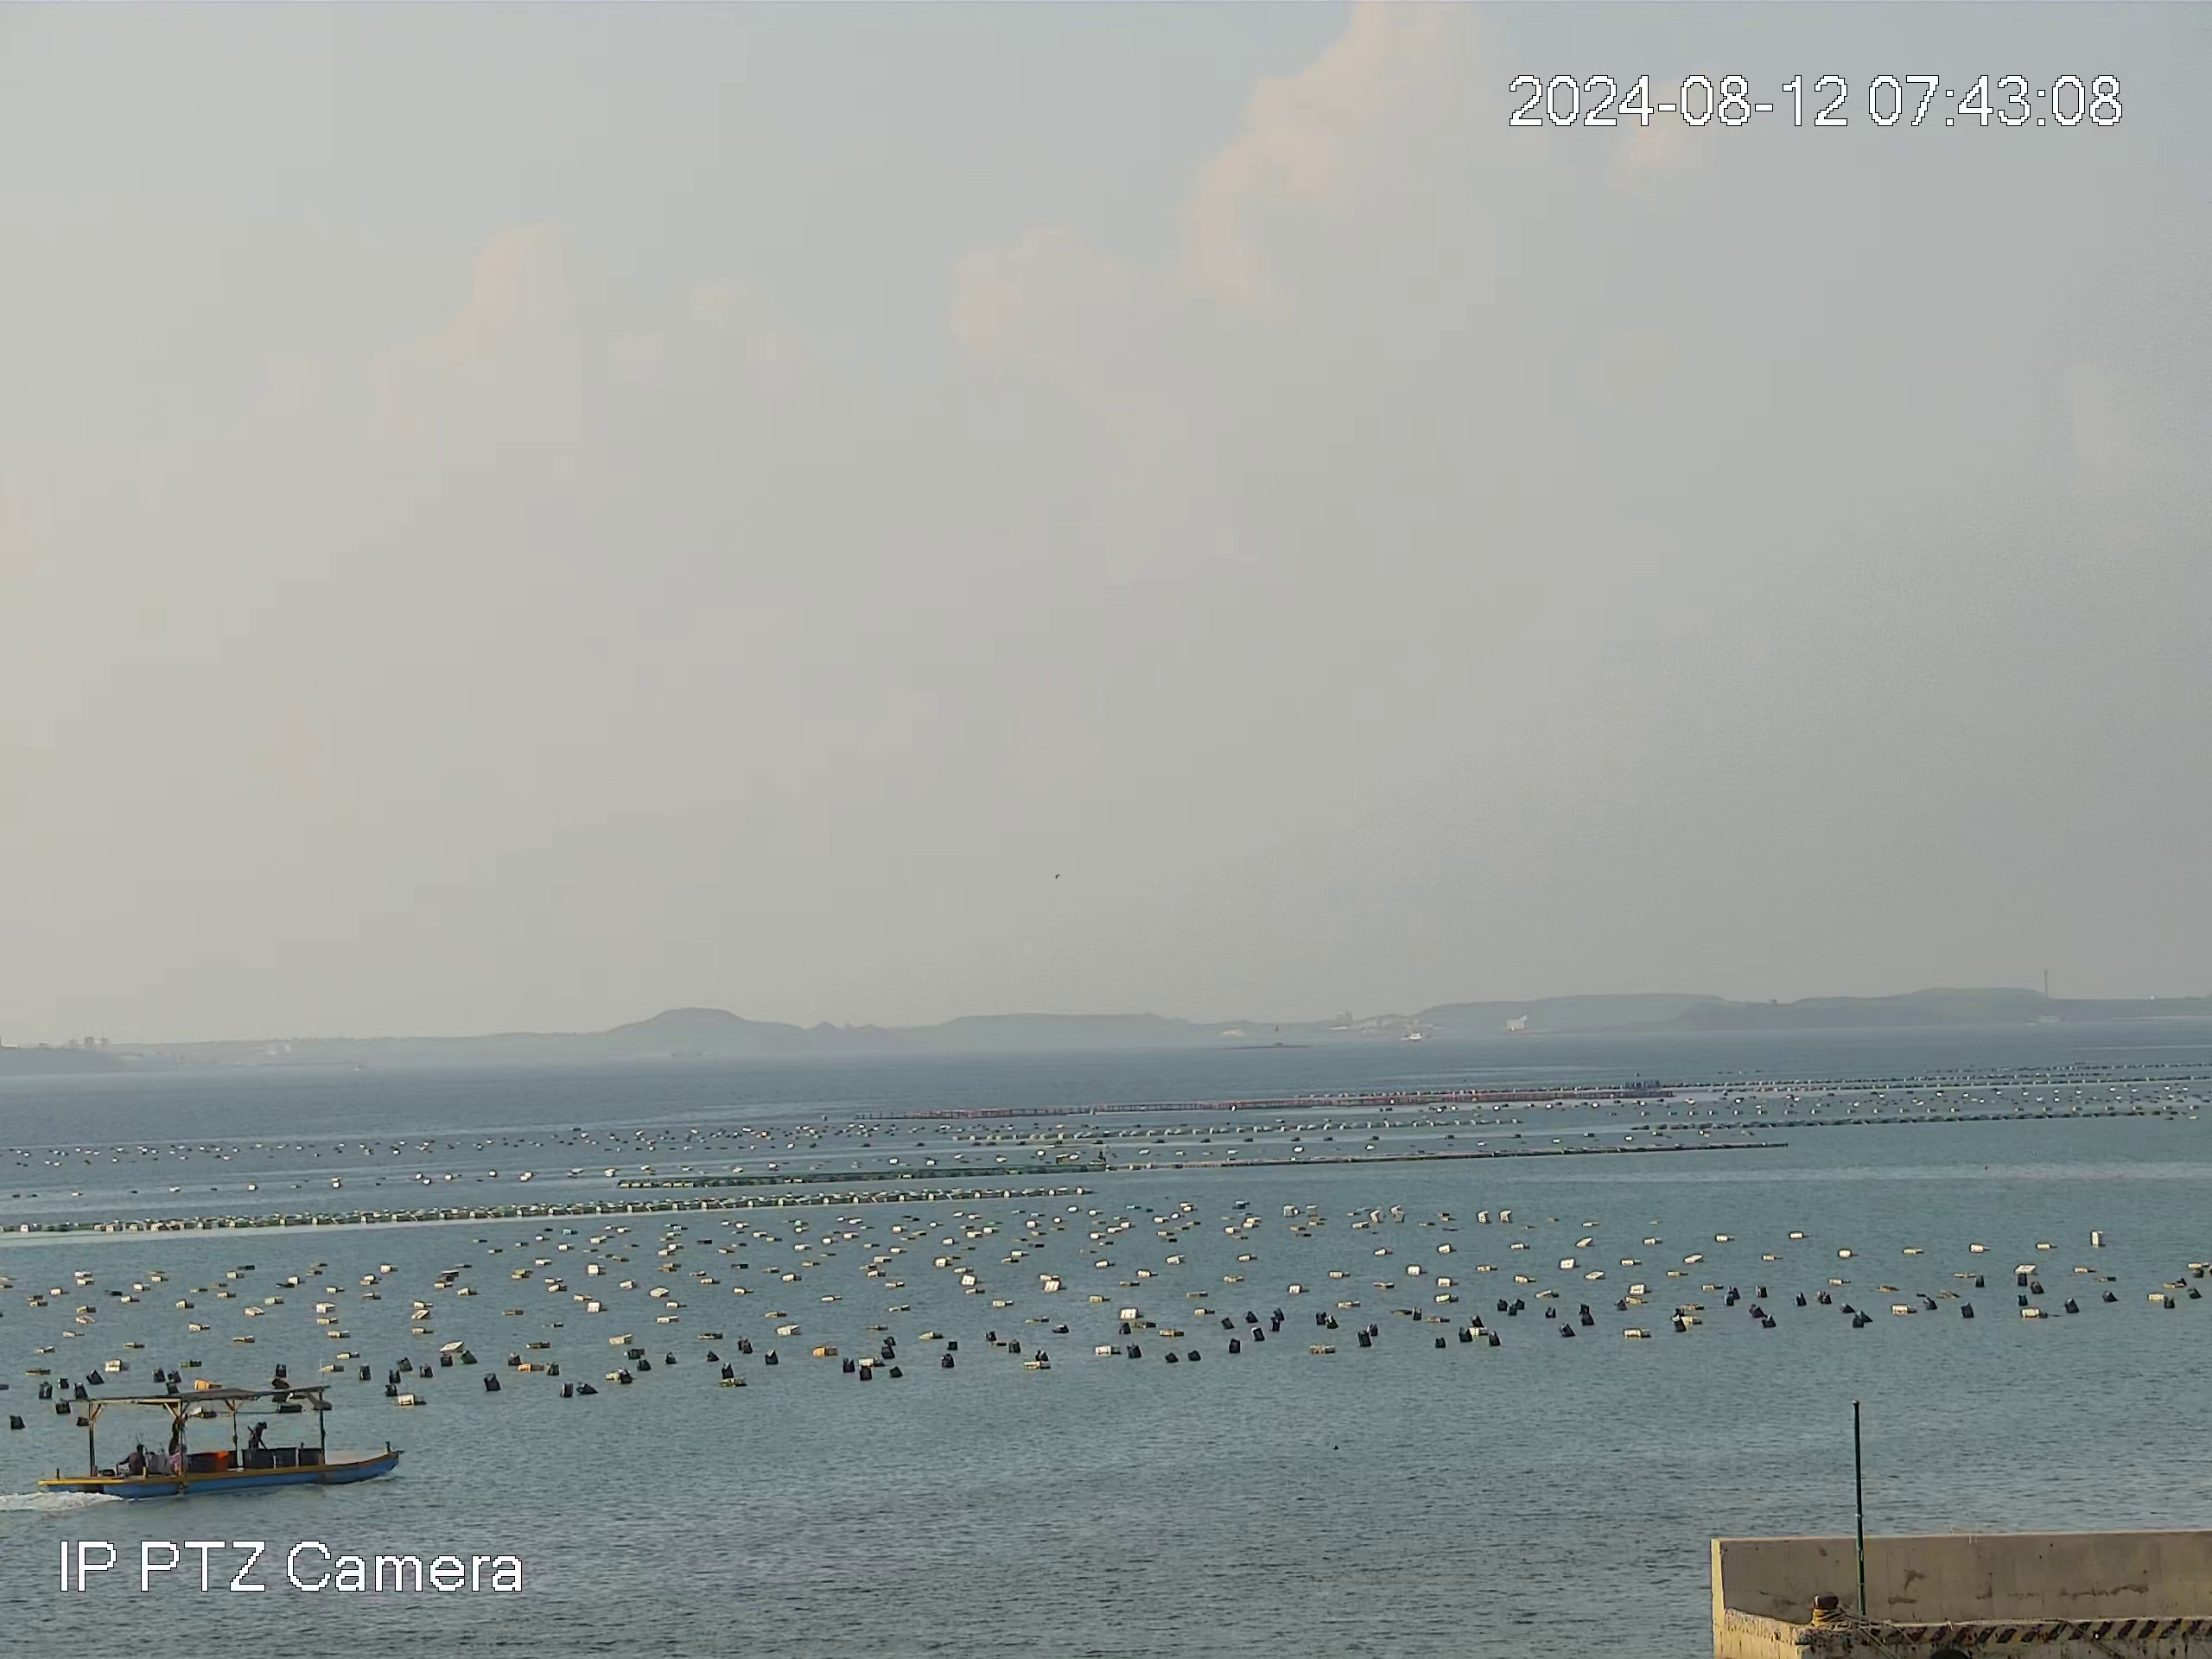boat: (37, 1387, 410, 1498)
